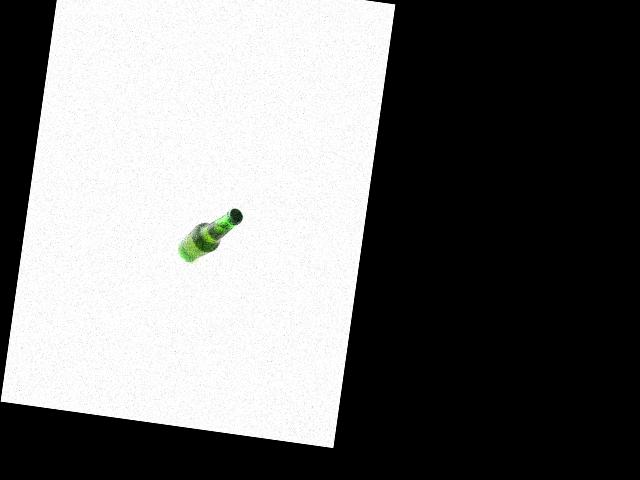beer: (176, 201, 244, 268)
